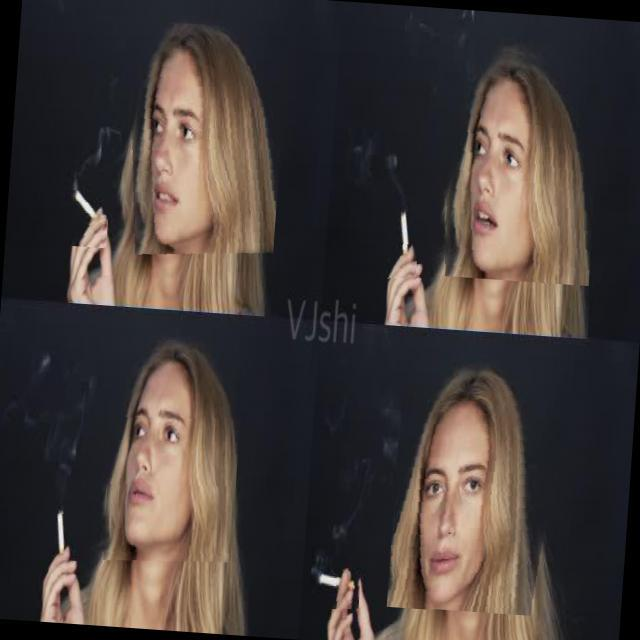cigarette: (60, 160, 111, 248), (309, 546, 362, 612), (48, 478, 79, 578), (386, 194, 422, 280)
